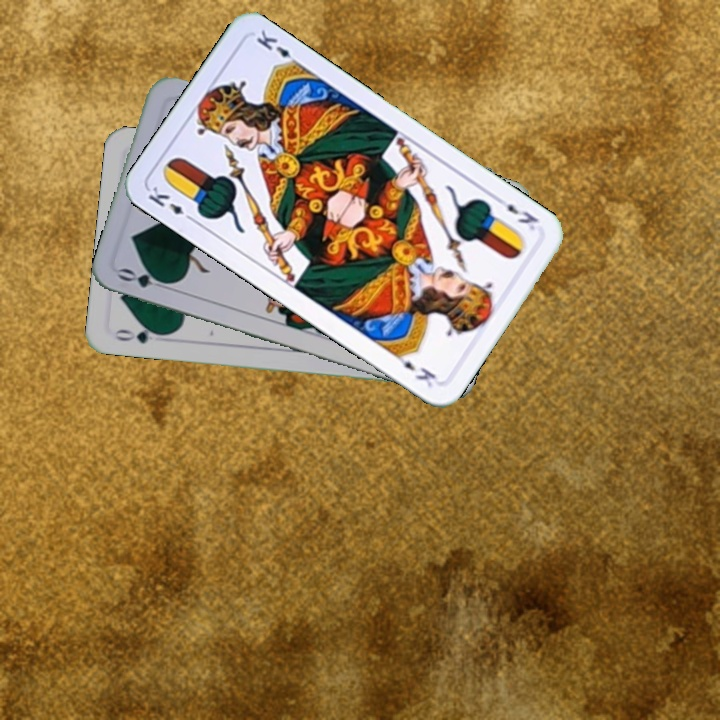EK: (143, 182, 198, 225), (491, 195, 541, 234)
GO: (114, 264, 174, 293), (110, 322, 169, 347)
